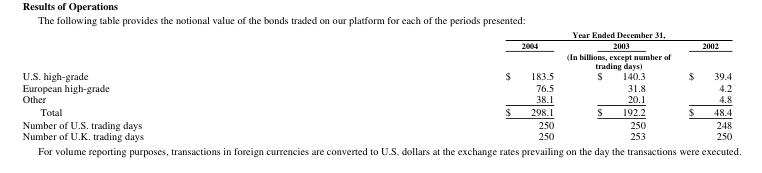table: (21, 28, 731, 142)
table column: (21, 28, 323, 142), (323, 28, 574, 142), (574, 28, 666, 142), (666, 28, 731, 142)
table column header: (21, 28, 731, 69)
table row: (21, 50, 731, 69), (21, 104, 731, 117), (21, 129, 731, 142), (21, 80, 731, 92), (21, 92, 731, 104), (21, 117, 731, 129), (21, 28, 731, 39), (21, 39, 731, 50), (21, 69, 731, 80)
table spanning cell: (323, 50, 731, 69), (323, 28, 731, 39)
